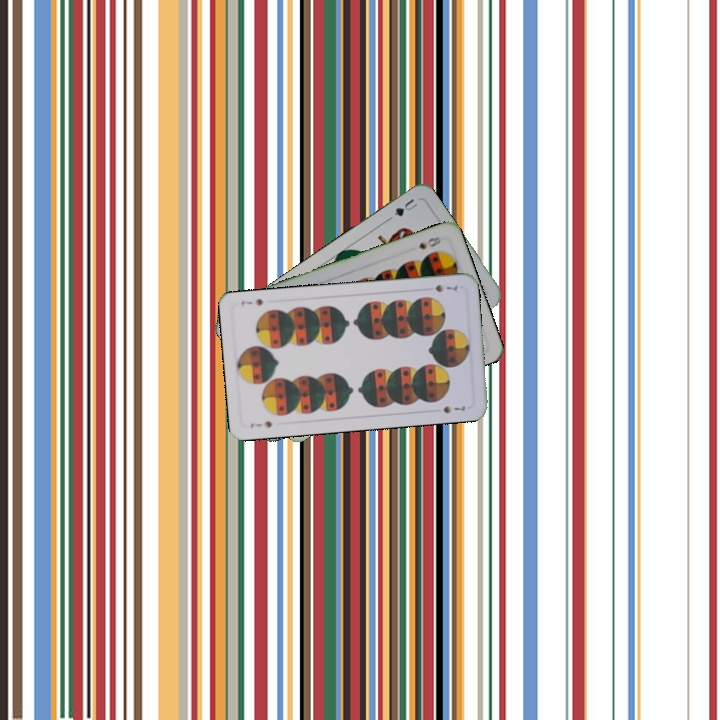GU: (385, 194, 420, 222)
S7: (431, 280, 460, 295), (246, 417, 275, 430)
S8: (414, 232, 443, 252)
